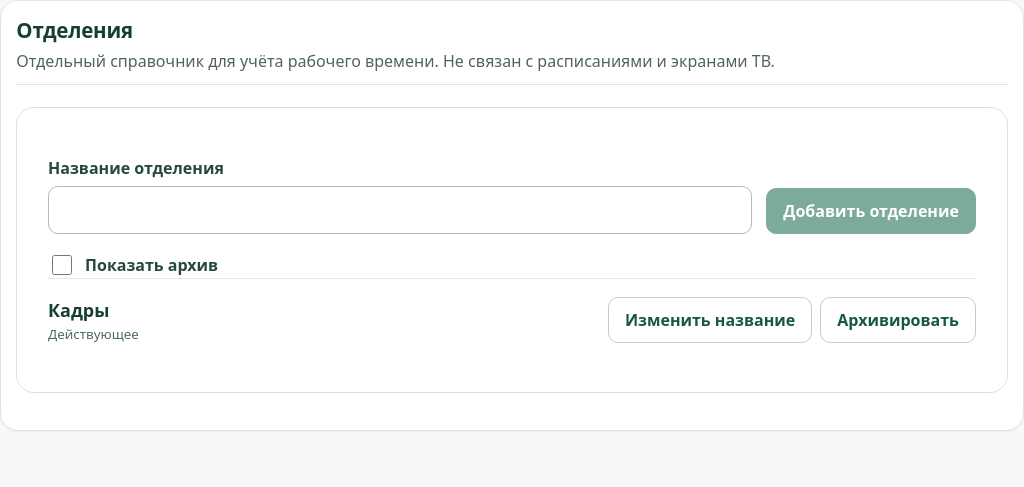
it: renames an existing department inline
Click the button with aria-label "Изменить название: Кадры": (710, 320) top-left (608, 297), bottom-right (812, 343)
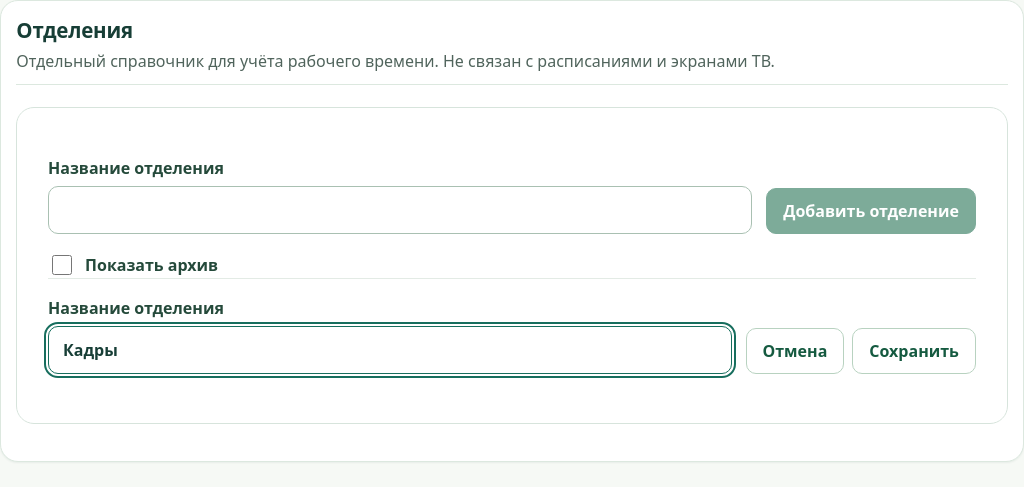
Replace the text in the 2nd field labelled "Название отделения" with "Персонал": (390, 350) top-left (48, 326), bottom-right (732, 374)
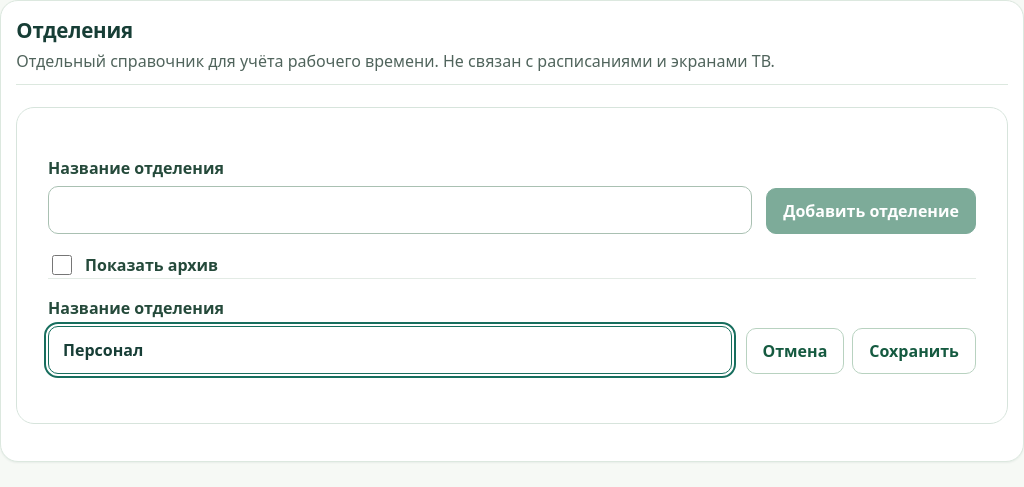
Click the button "Сохранить": (914, 351) top-left (852, 328), bottom-right (976, 374)
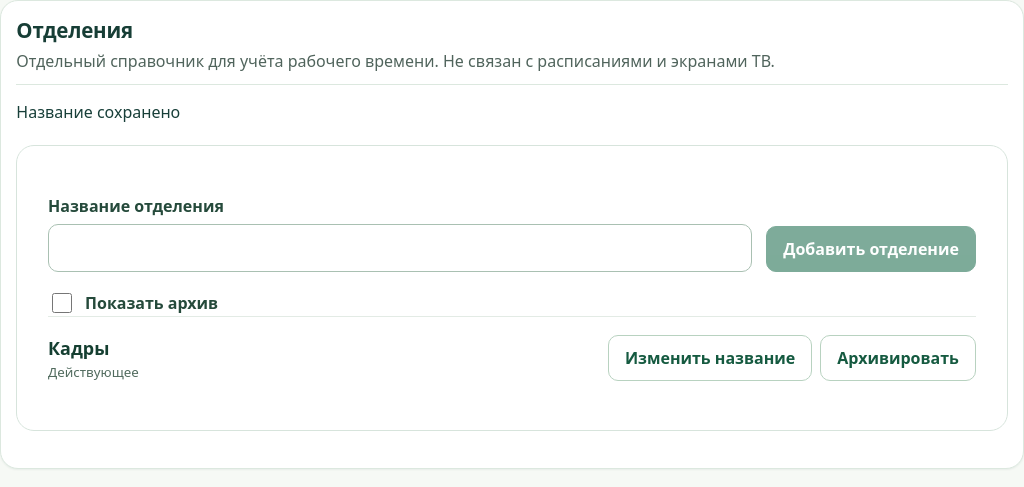
Expected: the text "Название сохранено" is shown, top-left (16, 101), bottom-right (180, 123)
